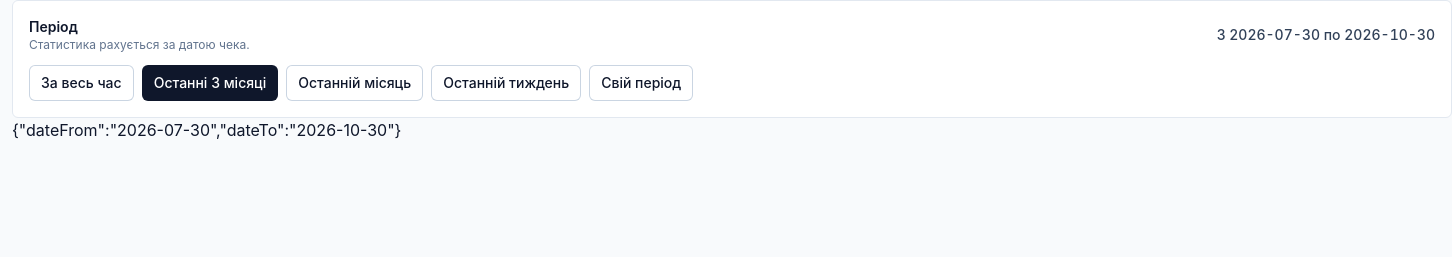
Test: StatsPeriodPicker › shows an error instead of accepting an inverted custom range
Click the button "Свій період" at (641, 83), box [589,65,693,101]
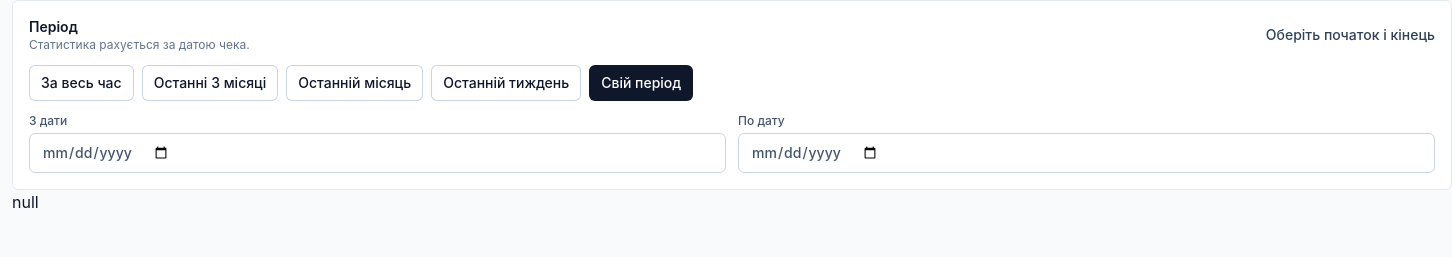
Type "2026-08-31" into the date field labelled "З дати" at (378, 153), box [29,133,726,173]
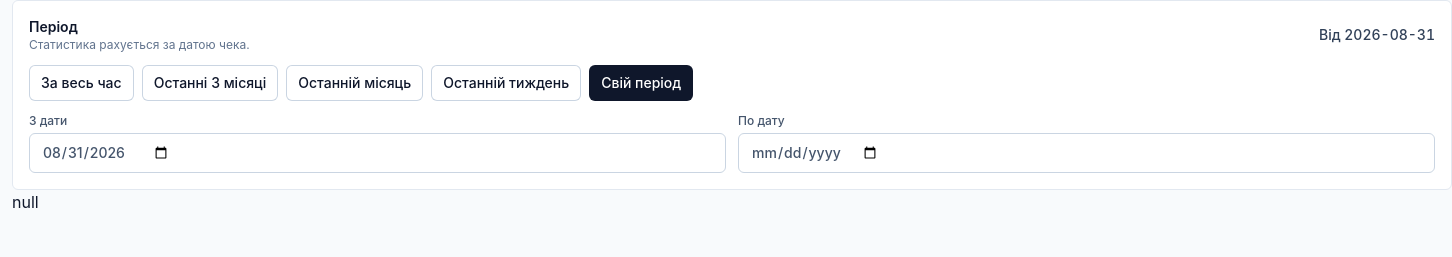
Type "2026-08-01" into the date field labelled "По дату" at (1086, 153), box [738,133,1435,173]
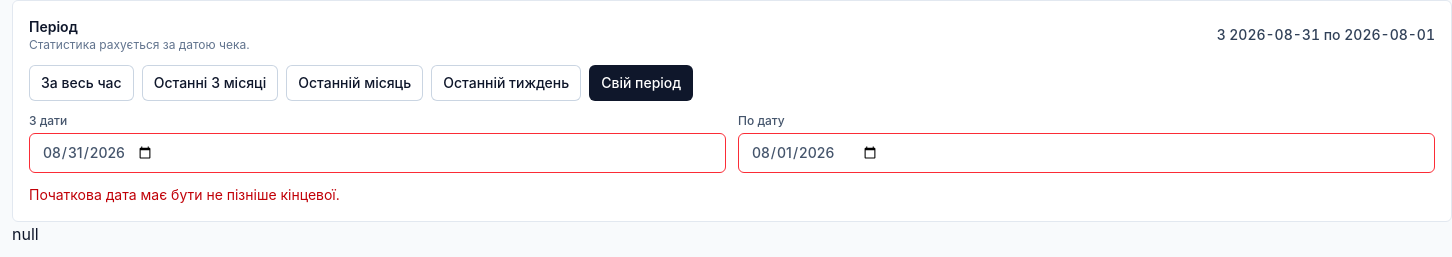
Check: the message reads "Початкова дата має бути не пізніше кінцевої.", box [29,186,340,203]
